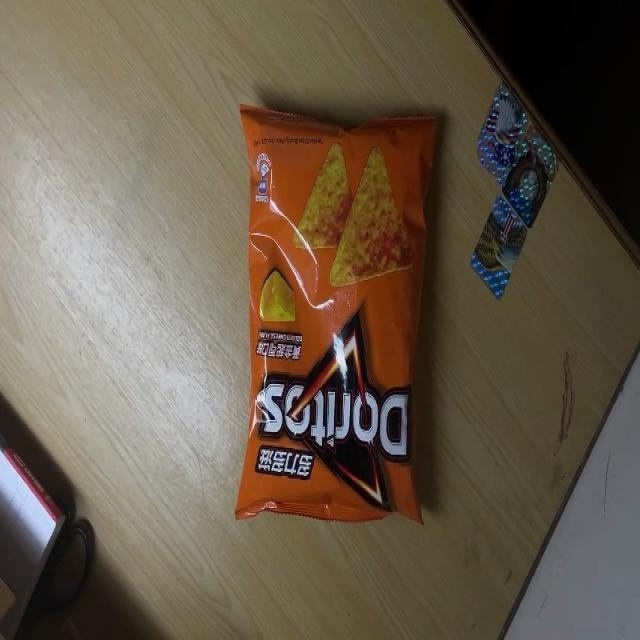Doritos: (234, 104, 441, 528)
